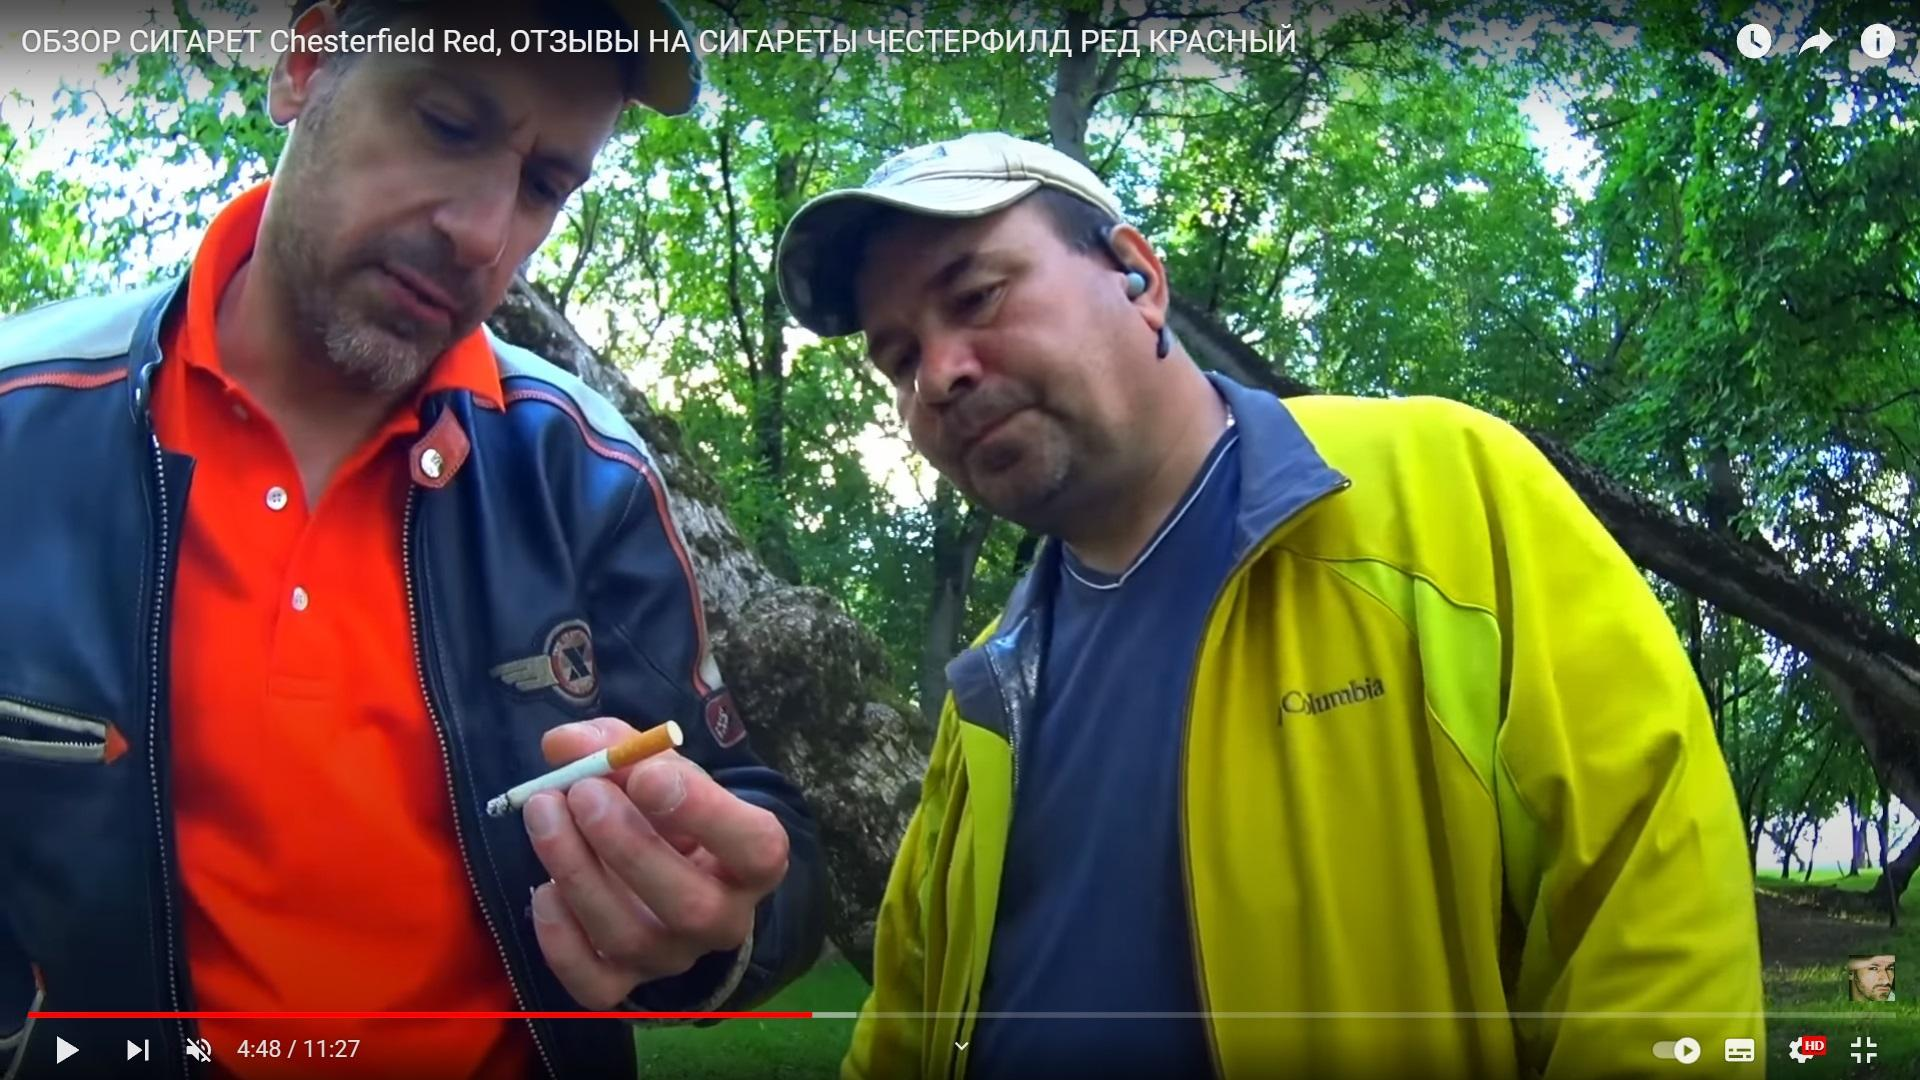cigarette: (485, 720, 683, 816)
